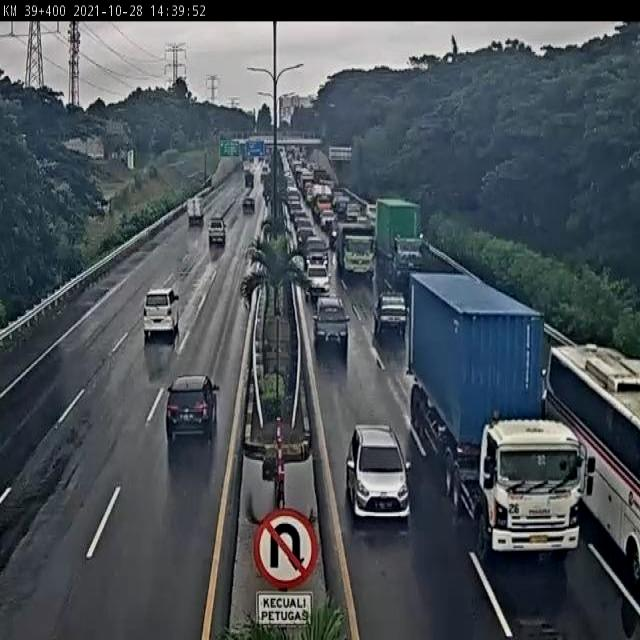Bus: (548, 342, 640, 590)
Car: (165, 376, 219, 438), (311, 297, 351, 350), (372, 291, 410, 333), (302, 264, 332, 299), (302, 236, 331, 270), (207, 215, 227, 245), (296, 228, 320, 252), (242, 195, 256, 216)
Truck: (407, 271, 588, 563), (378, 197, 424, 273), (336, 218, 377, 280), (186, 194, 203, 224)
Van: (343, 426, 415, 524), (142, 284, 179, 340)
